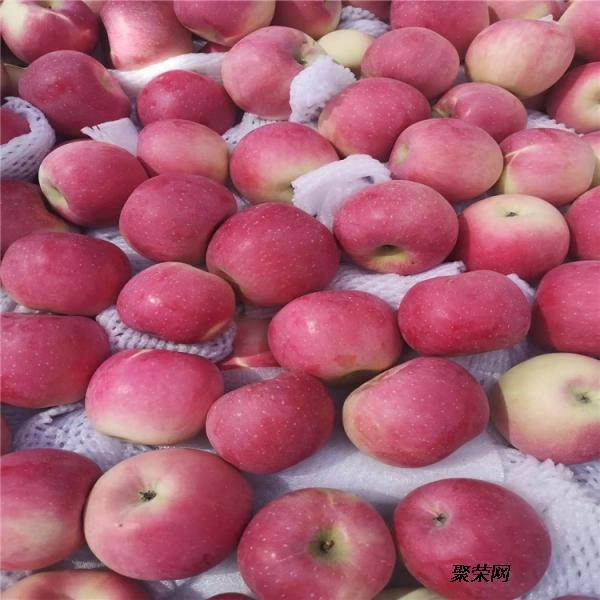apple: (82, 446, 249, 583), (393, 480, 552, 596), (235, 485, 398, 598), (339, 353, 492, 470), (207, 197, 340, 309), (201, 370, 338, 477), (86, 351, 222, 450), (488, 350, 599, 465), (1, 449, 101, 575), (266, 292, 403, 382), (335, 179, 456, 277), (3, 229, 130, 318), (399, 269, 533, 353), (120, 171, 236, 265), (2, 311, 111, 409), (453, 191, 569, 282), (37, 138, 147, 232), (388, 116, 504, 205), (220, 29, 334, 119), (319, 75, 428, 164), (227, 120, 337, 207), (117, 260, 235, 341), (17, 51, 131, 134), (464, 17, 575, 99), (496, 127, 597, 208), (361, 25, 462, 99), (132, 69, 239, 135), (526, 259, 599, 355), (430, 82, 528, 141), (2, 2, 99, 61), (545, 63, 600, 134)
